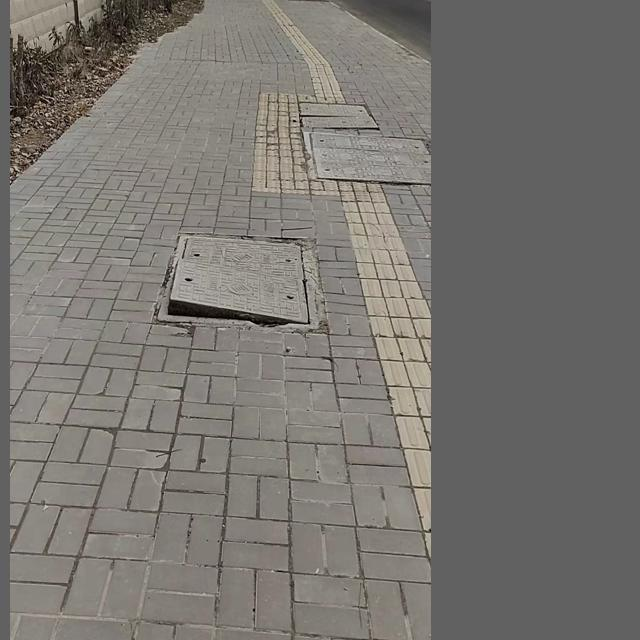good: (300, 123, 431, 185)
uncovered: (151, 231, 318, 334)
